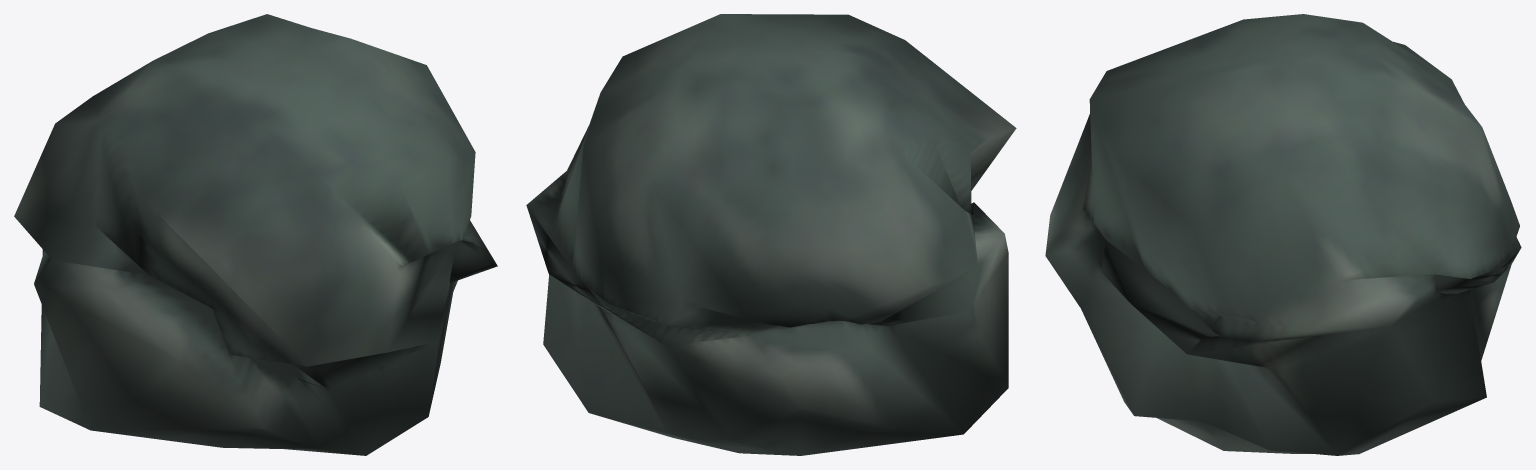
The model's file is Rock01.fbx.
3 renders of one model, left to right at view 1: azimuth 30°, elevation 25°; view 2: azimuth 150°, elevation 25°; view 3: azimuth 270°, elevation 25°, orthographic.
Visible parts, largest first — view 1: rock.001_lp; view 2: rock.001_lp; view 3: rock.001_lp.
Boxes of the visible parts, box(x1,y1,x2,y2) form: rock.001_lp: box(14, 14, 497, 455); rock.001_lp: box(526, 14, 1016, 455); rock.001_lp: box(1045, 14, 1521, 455).
Size of the model in its own units: 19.88 by 18.17 by 20.04.
